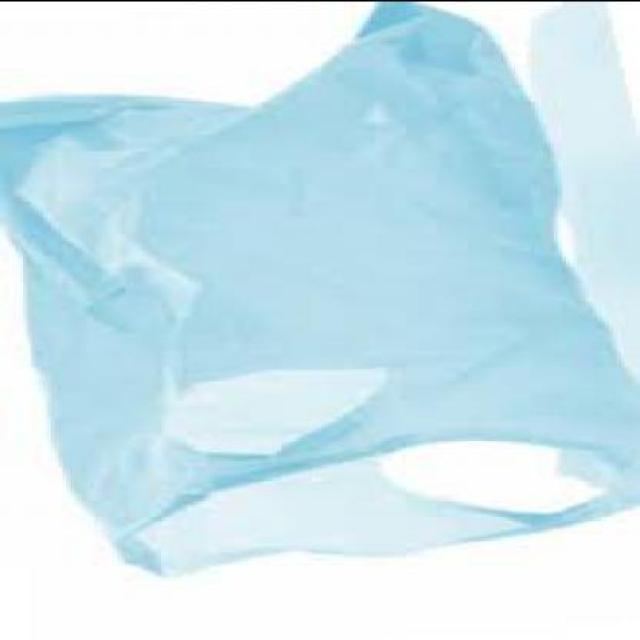PLASTIC: (0, 1, 638, 576)
